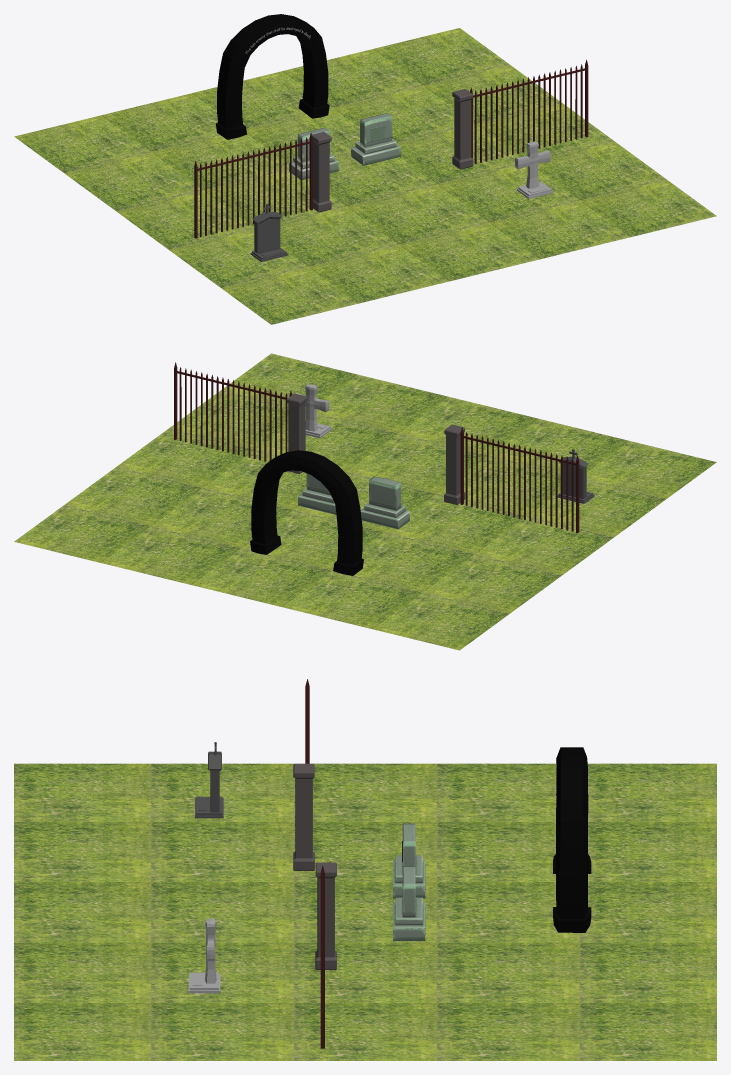
File: Cemetery.fbx
3 renders of one model, top to bottom at view 1: azimuth 30°, elevation 25°; view 2: azimuth 150°, elevation 25°; view 3: azimuth 270°, elevation 25°, orthographic. The views are drawn at different scales.
Visible parts, largest first — view 1: pPlane1, Arch, polySurface26, polySurface36, grave:Mesh, polySurface53, GraveStone1, GraveStone, Mesh1; view 2: pPlane1, Arch, polySurface26, polySurface36, Mesh1, polySurface53, GraveStone1, grave:Mesh, GraveStone; view 3: pPlane1, Arch, polySurface26, grave:Mesh, polySurface53, Mesh1, GraveStone, GraveStone1, polySurface36.
Boxes of the visible parts, bbox=[...] form: pPlane1: bbox=[14, 28, 716, 324]; Arch: bbox=[215, 14, 329, 139]; polySurface26: bbox=[194, 131, 331, 238]; polySurface36: bbox=[470, 59, 588, 164]; grave:Mesh: bbox=[351, 113, 400, 165]; polySurface53: bbox=[452, 89, 473, 169]; GraveStone1: bbox=[250, 204, 288, 261]; GraveStone: bbox=[515, 141, 553, 198]; Mesh1: bbox=[289, 127, 338, 179]; pPlane1: bbox=[14, 353, 716, 650]; Arch: bbox=[250, 450, 363, 575]; polySurface26: bbox=[444, 424, 579, 532]; polySurface36: bbox=[174, 362, 292, 461]; Mesh1: bbox=[360, 476, 409, 529]; polySurface53: bbox=[286, 393, 307, 473]; GraveStone1: bbox=[557, 449, 594, 503]; grave:Mesh: bbox=[298, 473, 336, 514]; GraveStone: bbox=[296, 384, 331, 438]; pPlane1: bbox=[14, 763, 716, 1060]; Arch: bbox=[553, 747, 591, 932]; polySurface26: bbox=[293, 679, 314, 870]; grave:Mesh: bbox=[393, 866, 425, 941]; polySurface53: bbox=[315, 862, 336, 969]; Mesh1: bbox=[393, 823, 425, 898]; GraveStone: bbox=[188, 918, 220, 993]; GraveStone1: bbox=[195, 742, 223, 818]; polySurface36: bbox=[320, 865, 324, 1048].
Bounding box in the file's own units: 133 × 30.55 × 133.
Materials: 8 (2 with a texture image).
